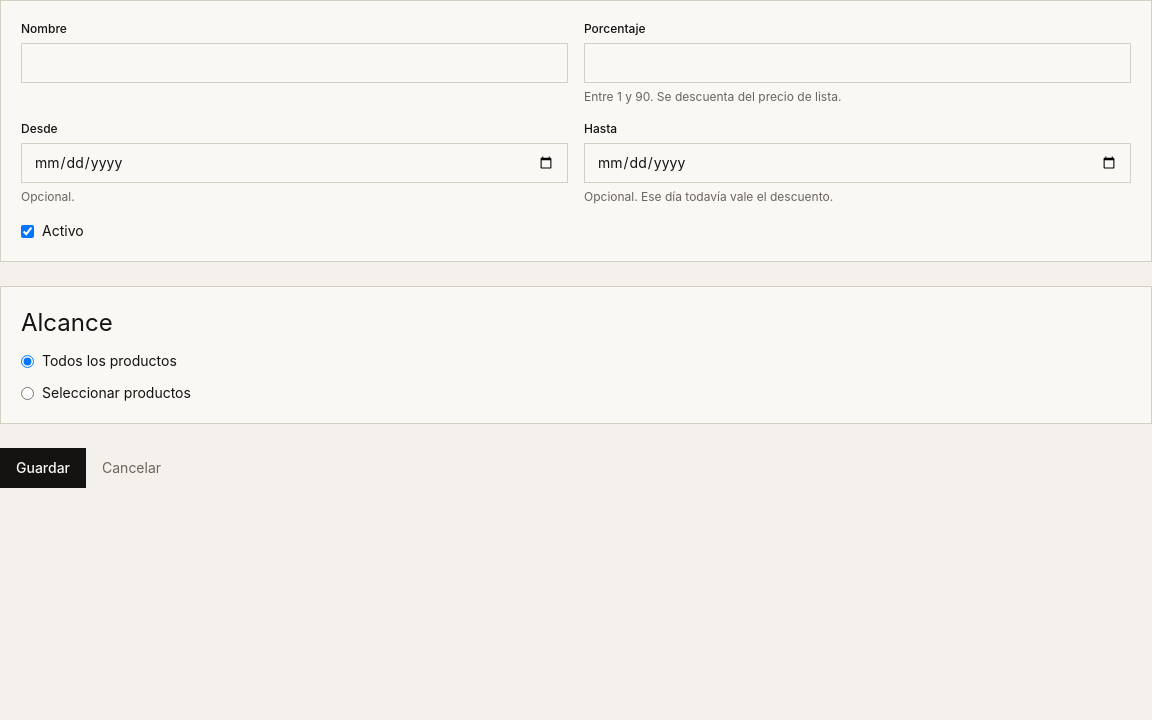
DiscountForm › shows field errors, including the product list
Click the radio button labelled "Seleccionar productos".
click(28, 393)  # box [21,386,34,400]
(page scrolled)
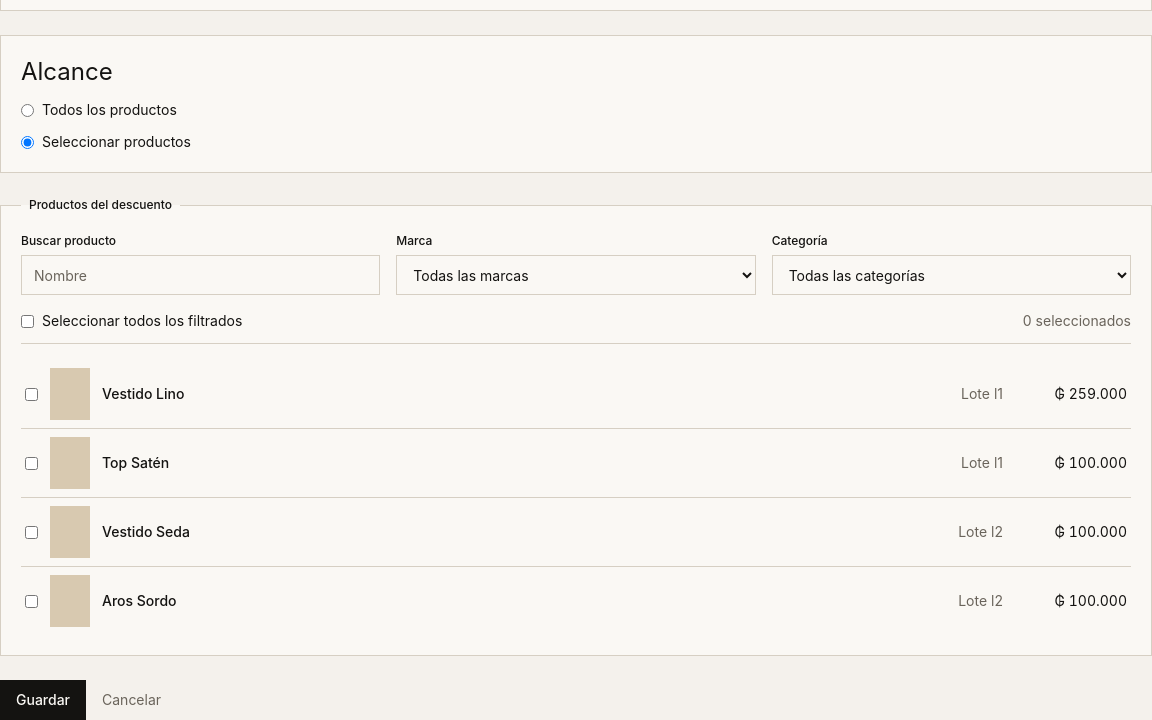
Click the button "Guardar".
click(43, 700)  # box [0,680,86,719]
(page scrolled)
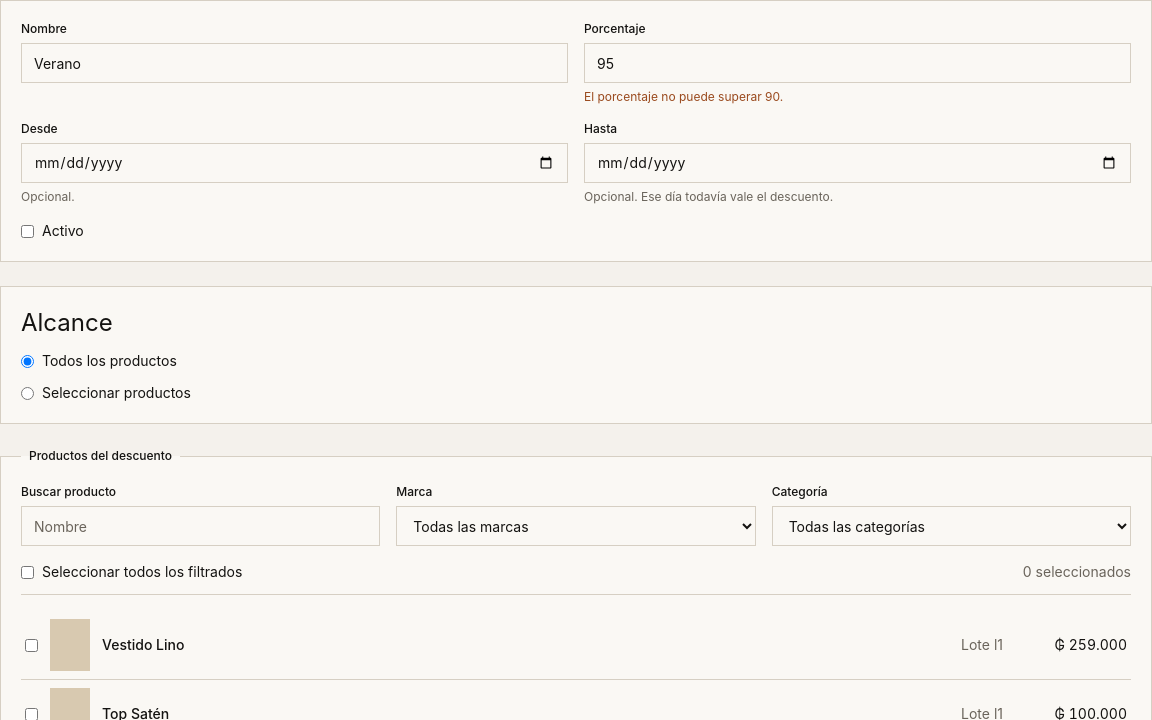
Result: the text "El porcentaje no puede superar 90." is shown at [584,89,783,104]
Result: the field labelled "Porcentaje" holds "95" at [584,43,1131,83]
